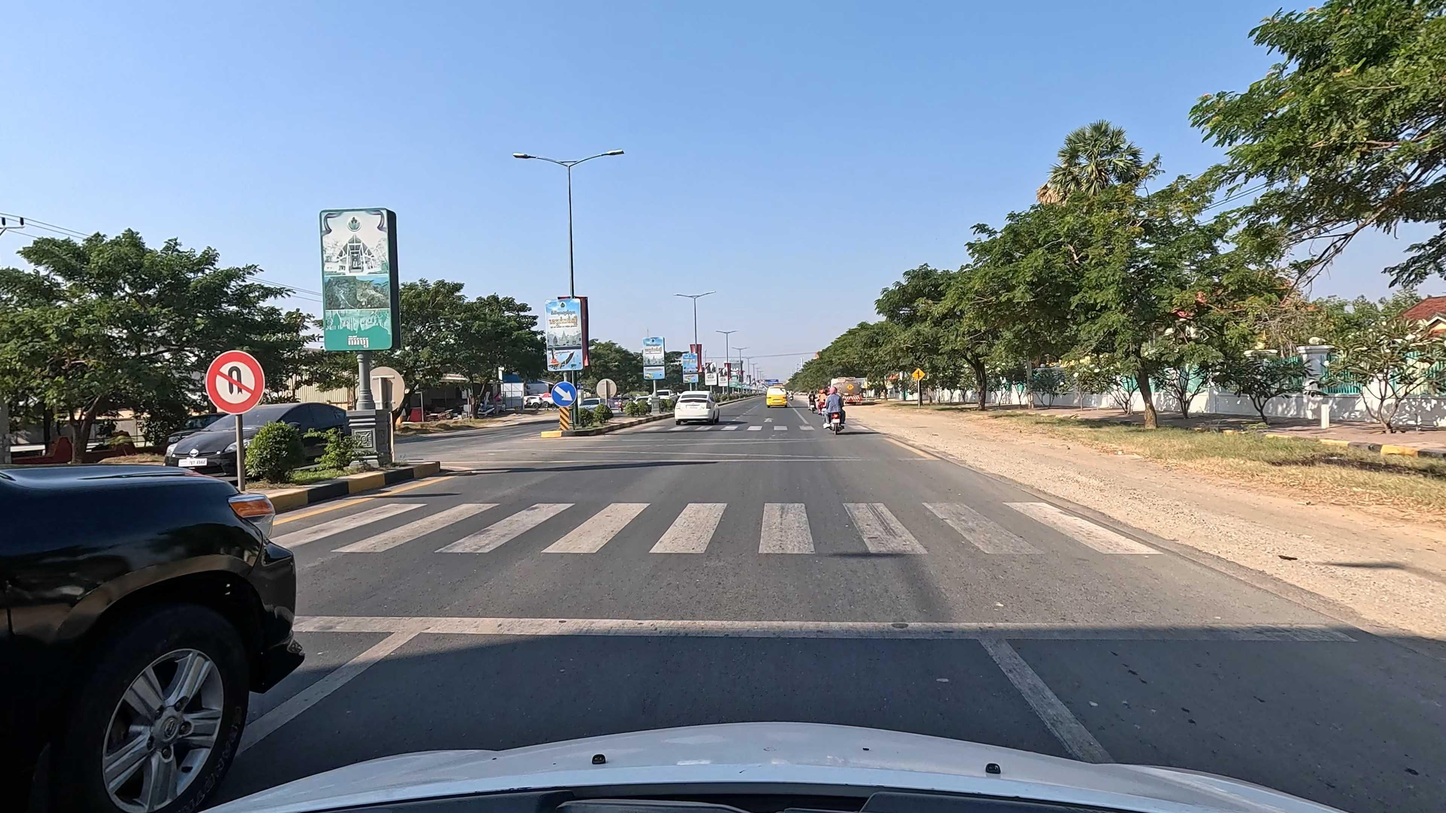keep_right: (550, 380, 577, 408)
no_u_turn: (207, 350, 268, 415)
offset_road_junction_left_right: (912, 368, 926, 381)
